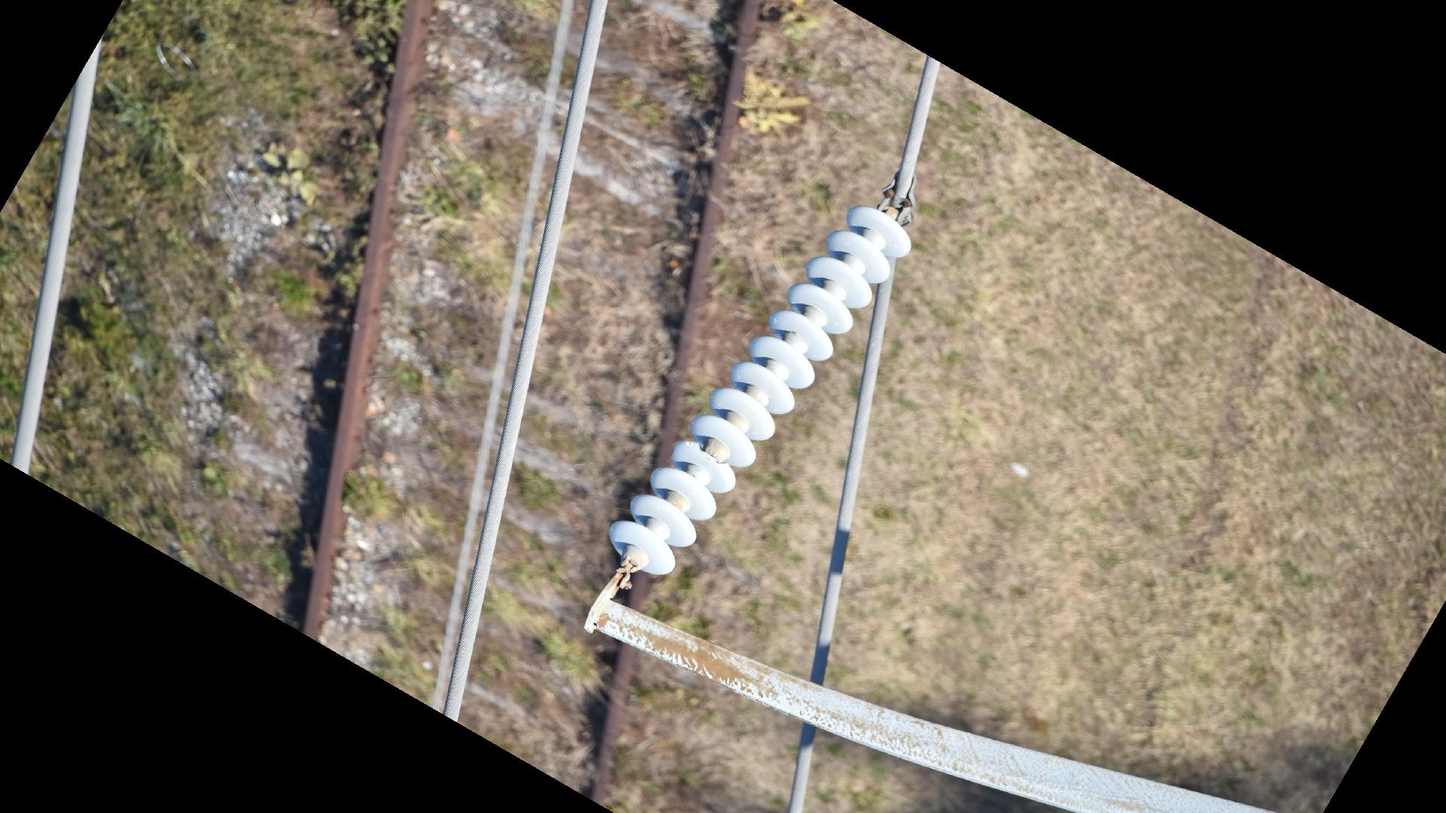insulator: (602, 198, 917, 582)
insulator_breakage: (672, 435, 732, 473)
